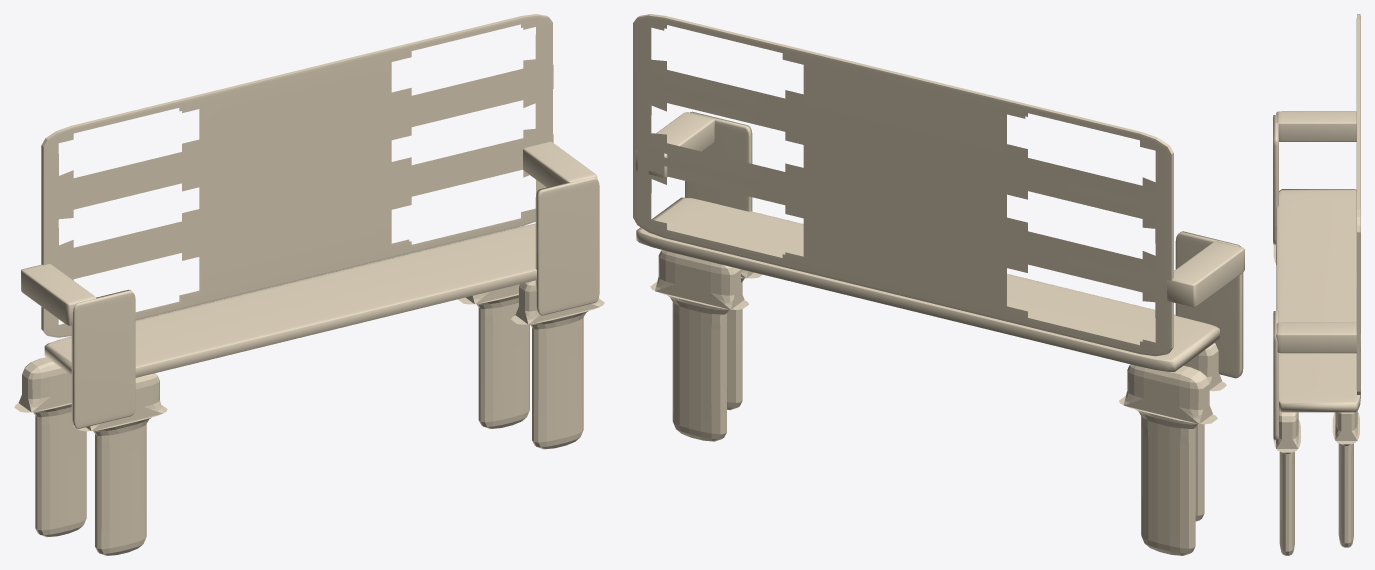
The model's file is Silla_pasltico.fbx.
3 views of the same model, side by side, from view 1: azimuth 30°, elevation 25°; view 2: azimuth 150°, elevation 25°; view 3: azimuth 270°, elevation 25° (orthographic). The views are drawn at different scales.
Parts seen in each view (by area): view 1: Cube.029; view 2: Cube.029; view 3: Cube.029.
Boxes of the visible parts, box(x1,y1,x2,y2) form: Cube.029: box(14, 14, 604, 555); Cube.029: box(633, 14, 1244, 555); Cube.029: box(1273, 14, 1360, 555).
Bounding box in the file's own units: 0.0148 × 0.0102 × 0.00237.
